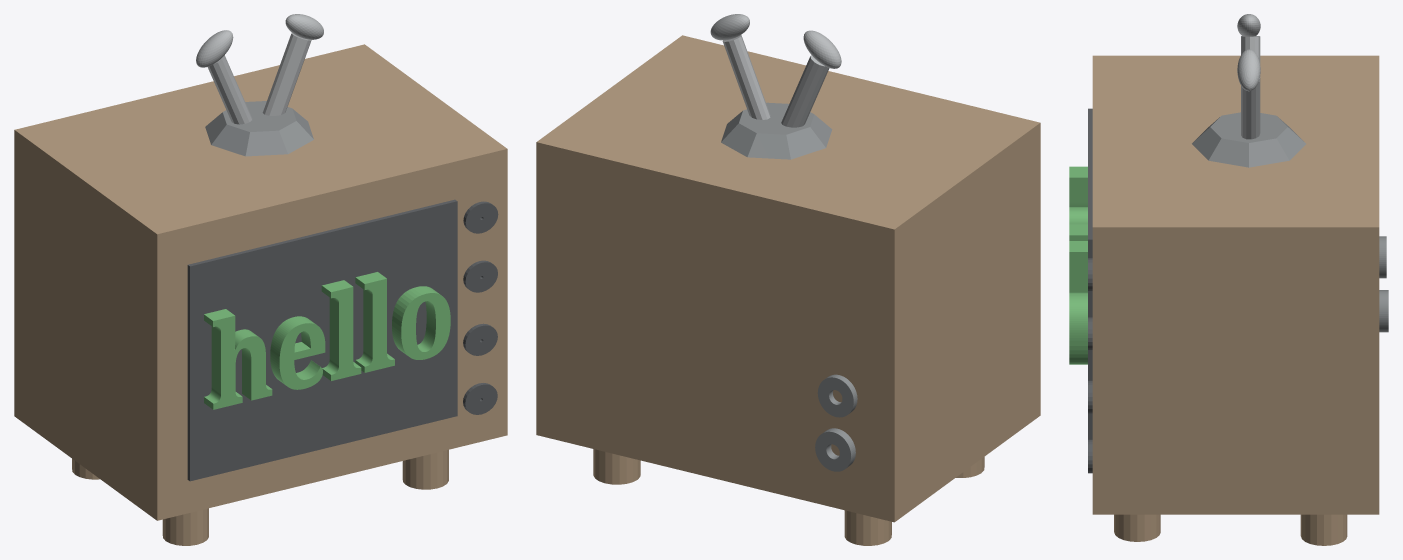
Rendered from hello tv.glb.
3 renders of one model, left to right at view 1: azimuth 30°, elevation 25°; view 2: azimuth 150°, elevation 25°; view 3: azimuth 270°, elevation 25°, orthographic. The views are drawn at different scales.
Parts seen in each view (by area): view 1: Mesh_Mesh_head_geo.001_lambert2SG.001; view 2: Mesh_Mesh_head_geo.001_lambert2SG.001; view 3: Mesh_Mesh_head_geo.001_lambert2SG.001.
Boxes of the visible parts, bbox=[...] form: Mesh_Mesh_head_geo.001_lambert2SG.001: bbox=[14, 14, 507, 545]; Mesh_Mesh_head_geo.001_lambert2SG.001: bbox=[536, 14, 1040, 545]; Mesh_Mesh_head_geo.001_lambert2SG.001: bbox=[1069, 14, 1388, 545].
Bounding box in the file's own units: 87 × 105 × 68.41.
